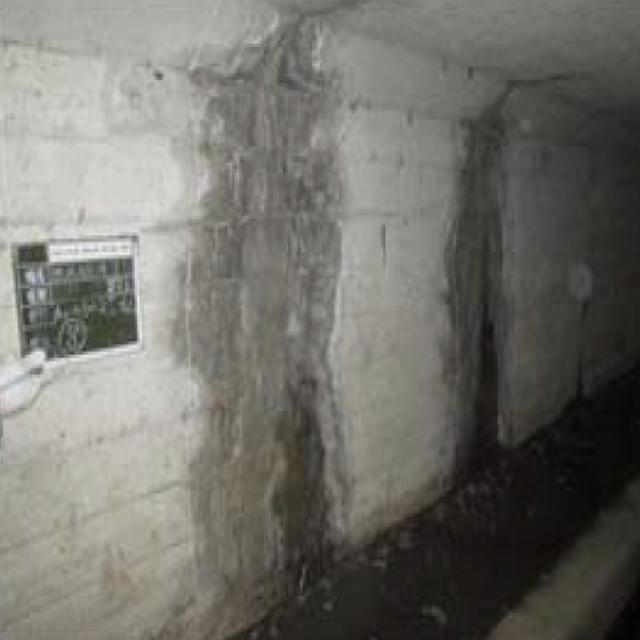leakage: (178, 13, 368, 606), (436, 71, 521, 473)
